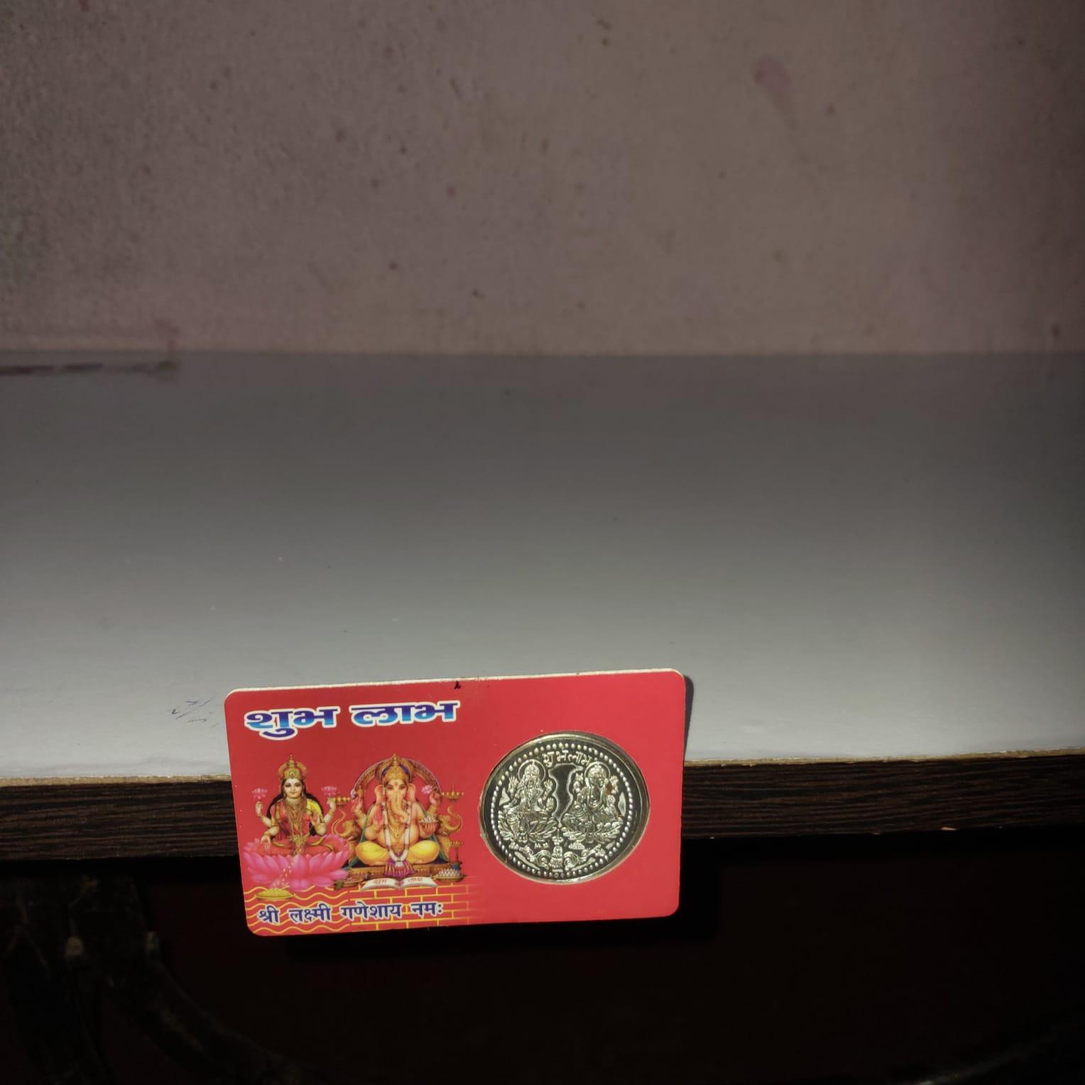blessing_card: (224, 671, 691, 940)
